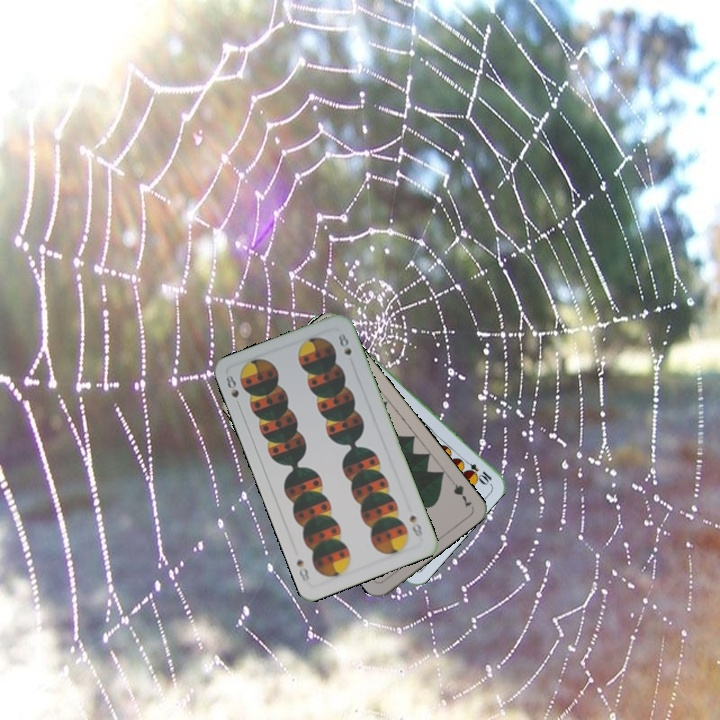E10: (458, 455, 494, 487)
G7: (445, 473, 474, 510)
S8: (222, 371, 243, 410), (405, 510, 425, 540)
